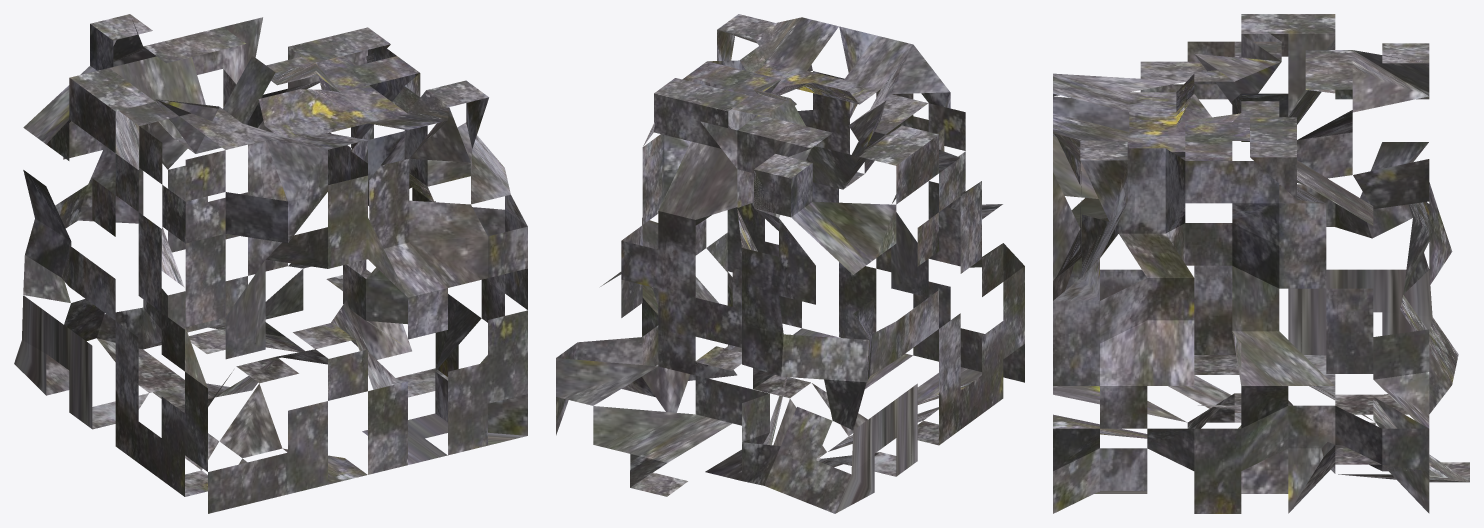
File: cube_cursed.fbx
3 views of the same model, side by side, from view 1: azimuth 30°, elevation 25°; view 2: azimuth 150°, elevation 25°; view 3: azimuth 270°, elevation 25° (orthographic). The views are drawn at different scales.
Parts seen in each view (by area): view 1: pasted__cube_exterior; view 2: pasted__cube_exterior; view 3: pasted__cube_exterior.
Part boxes in pixels (x1,y1,x2,y2): pasted__cube_exterior: (14,14,527,513); pasted__cube_exterior: (556,14,1024,513); pasted__cube_exterior: (1053,14,1469,513).
Size of the model in its own units: 2.79 by 2.92 by 3.03.
